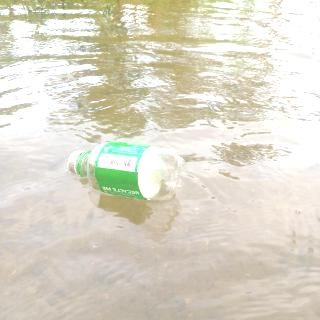bottle: (66, 140, 188, 202)
